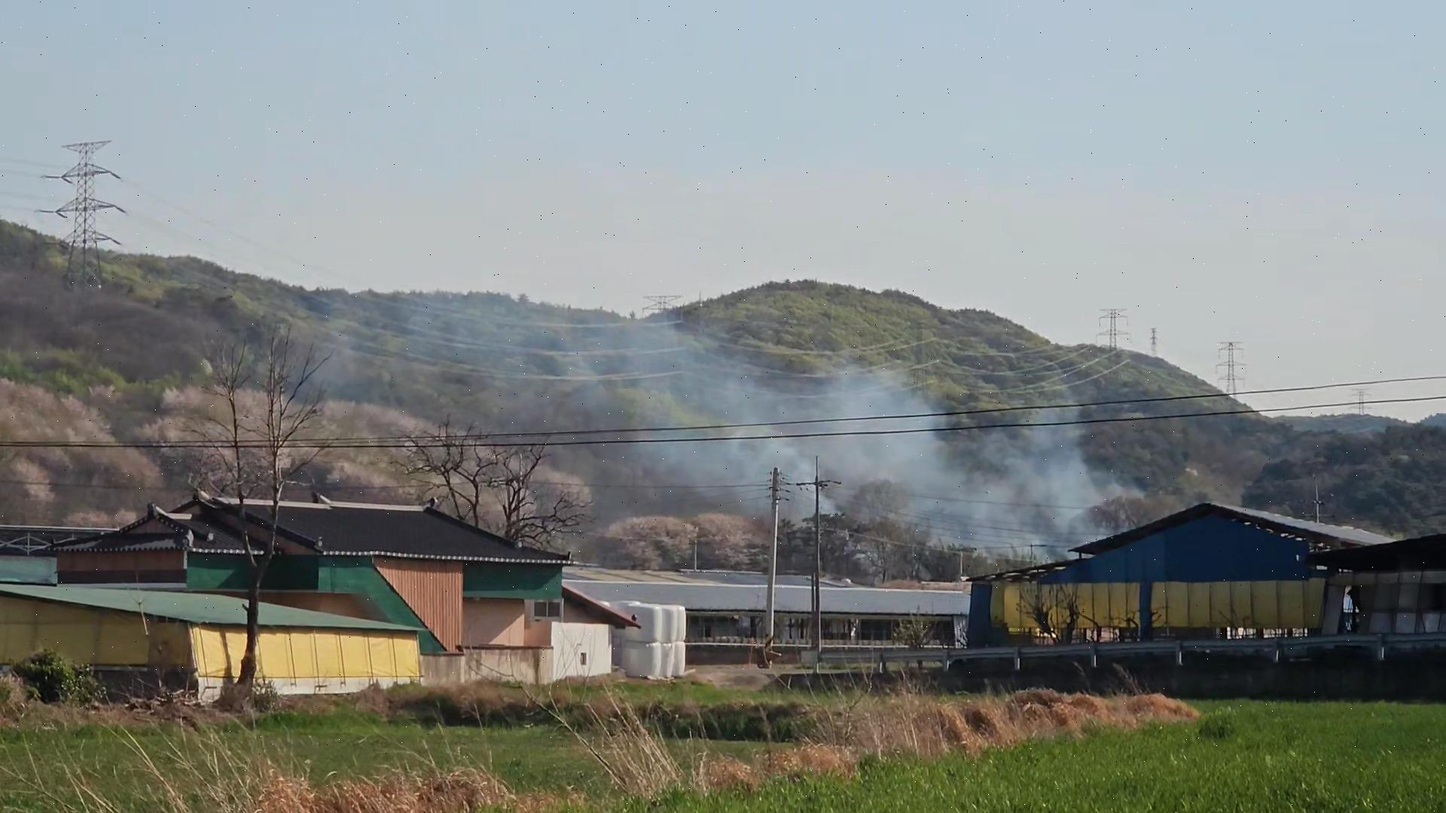smoke: (471, 285, 1142, 566)
